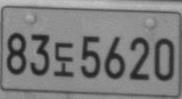0: (153, 37, 175, 82)
2: (128, 36, 149, 80)
3: (29, 32, 50, 76)
5: (80, 35, 101, 78)
6: (103, 36, 126, 79)
8: (5, 32, 27, 75)
도: (53, 41, 74, 77)
